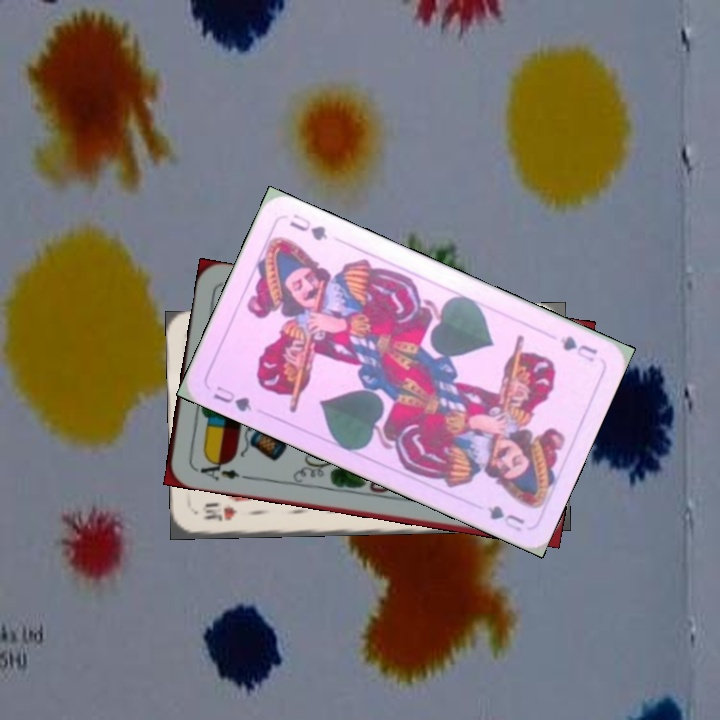EA: (191, 455, 242, 483)
GU: (209, 382, 255, 415), (556, 331, 600, 365)
H10: (198, 503, 240, 524)
